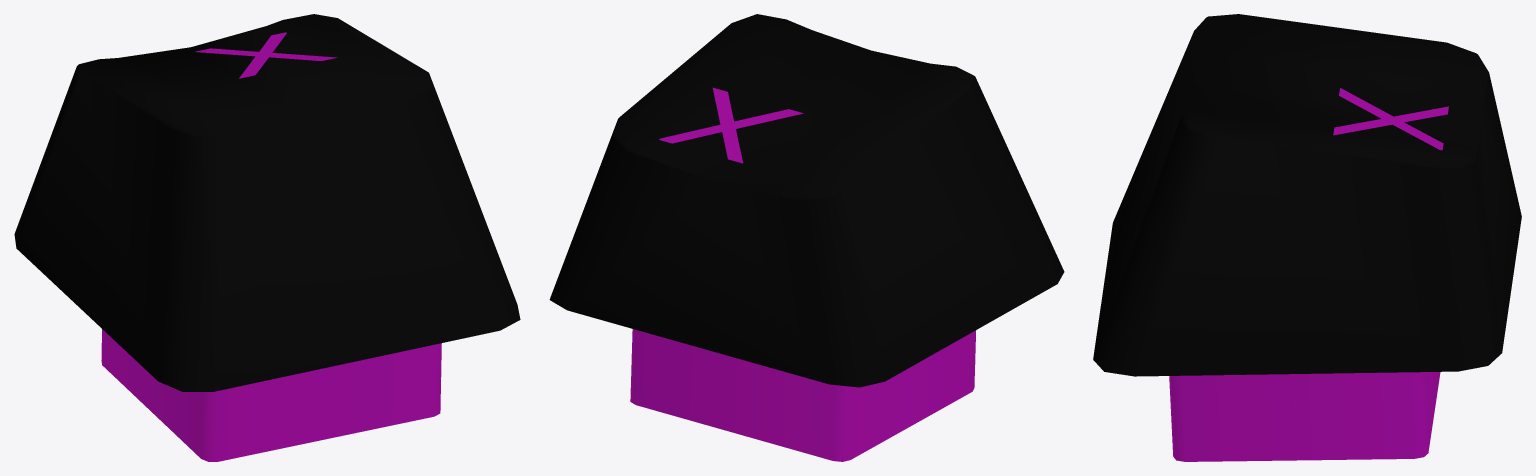
Rendered from x-BOuHjAxz.glb.
3 views of the same model, side by side, from view 1: azimuth 30°, elevation 25°; view 2: azimuth 150°, elevation 25°; view 3: azimuth 270°, elevation 25° (orthographic). The views are drawn at different scales.
Parts seen in each view (by area): view 1: StudyShelf_1181; view 2: StudyShelf_1181; view 3: StudyShelf_1181.
Part boxes in pixels (x1,y1,x2,y2): StudyShelf_1181: (14, 14, 520, 461); StudyShelf_1181: (549, 14, 1064, 461); StudyShelf_1181: (1093, 14, 1521, 461).
Bounding box in the file's own units: 4.35 × 3.71 × 4.35.
2 materials, 1 textured.
